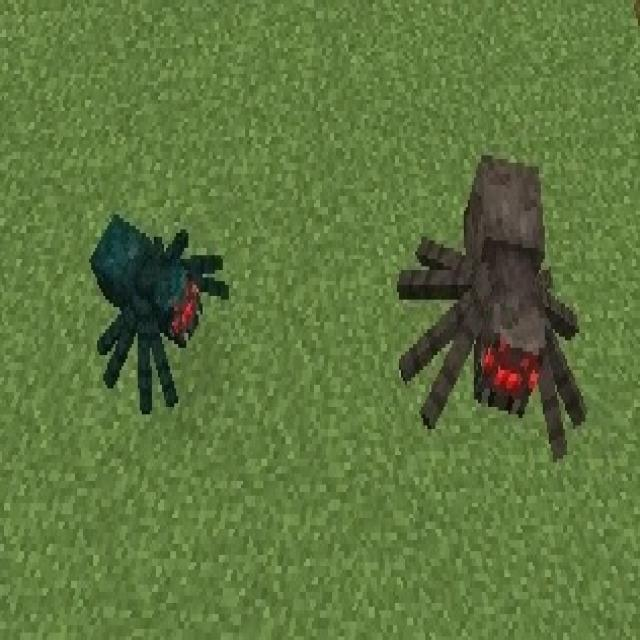Cave Spider: (89, 211, 231, 414)
Spider: (397, 156, 589, 467)
